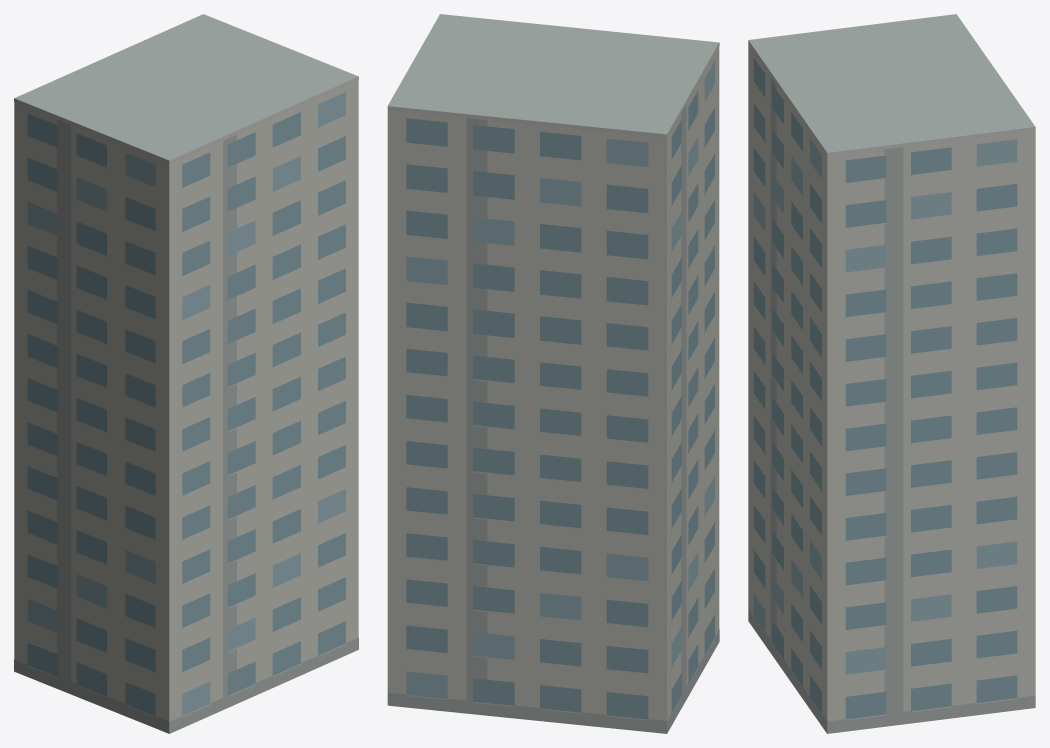
File: residential-7a6dd03a-e9b9-4ed5-9c63-01673e38649c.glb
The picture shows the model from 3 angles, left to right: view 1: azimuth 30°, elevation 25°; view 2: azimuth 150°, elevation 25°; view 3: azimuth 270°, elevation 25°; orthographic projection. The views are drawn at different scales.
Visible parts, largest first — view 1: residential-7a6dd03a-e9b9-4ed5-9c63-01673e38649c.tmp; view 2: residential-7a6dd03a-e9b9-4ed5-9c63-01673e38649c.tmp; view 3: residential-7a6dd03a-e9b9-4ed5-9c63-01673e38649c.tmp.
Boxes of the visible parts, x1,y1,x2,y2 form: residential-7a6dd03a-e9b9-4ed5-9c63-01673e38649c.tmp: (14,14,358,733); residential-7a6dd03a-e9b9-4ed5-9c63-01673e38649c.tmp: (387,14,719,733); residential-7a6dd03a-e9b9-4ed5-9c63-01673e38649c.tmp: (748,14,1035,733).
Bounding box in the file's own units: 18.97 × 37 × 16.59.
